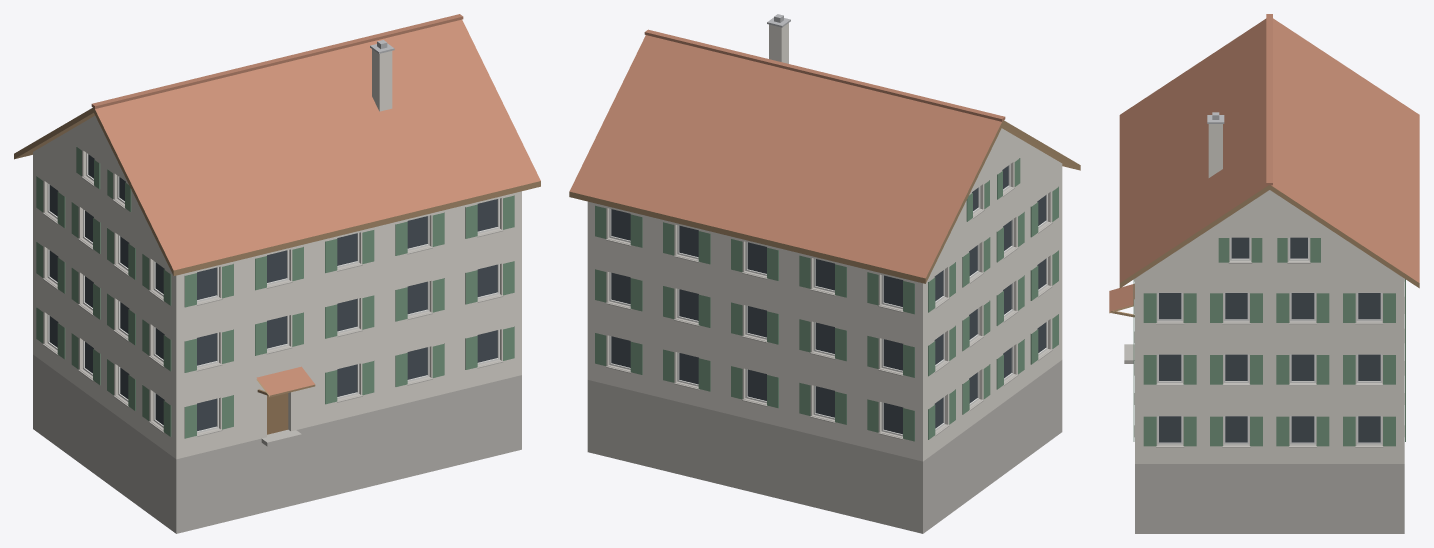
Rendered from house_gable_3_l.glb.
3 views of the same model, side by side, from view 1: azimuth 30°, elevation 25°; view 2: azimuth 150°, elevation 25°; view 3: azimuth 270°, elevation 25° (orthographic). The views are drawn at different scales.
Parts seen in each view (by area): view 1: house_gable_3_l; view 2: house_gable_3_l; view 3: house_gable_3_l.
Boxes of the visible parts, <box> form: house_gable_3_l: <box>14,14,540,533</box>; house_gable_3_l: <box>569,14,1080,533</box>; house_gable_3_l: <box>1109,14,1419,533</box>.
Bounding box in the file's own units: 17.04 × 17.68 × 13.25.
